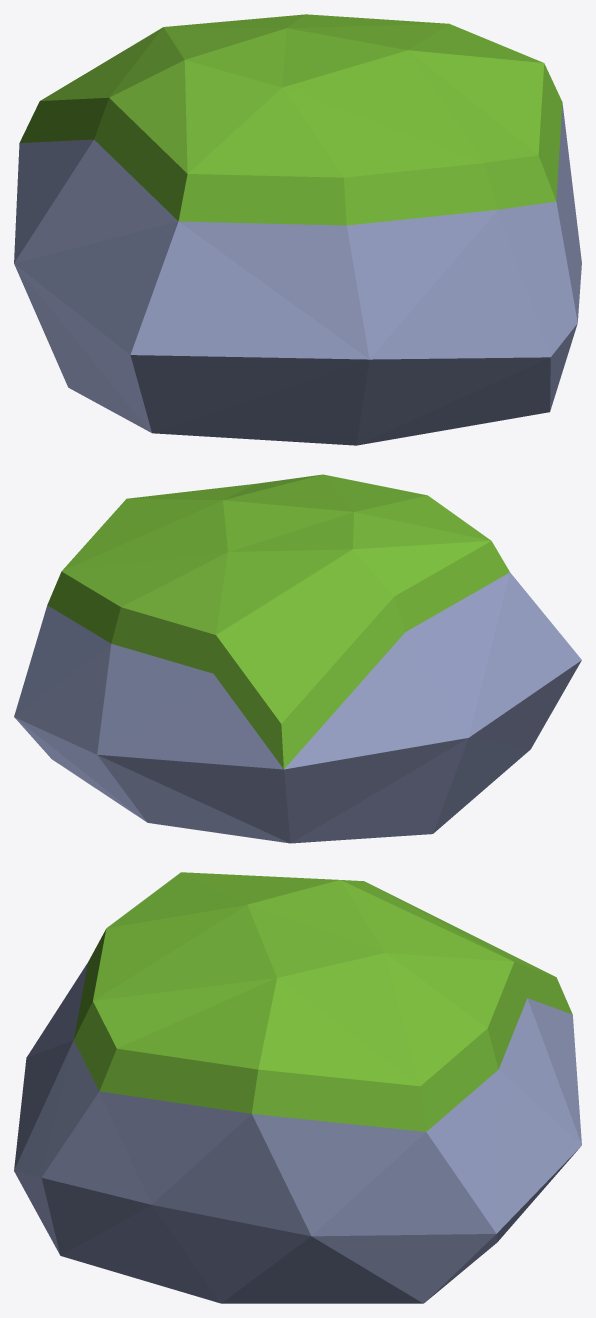
The model's file is Stone_9_1.fbx.
3 renders of one model, top to bottom at view 1: azimuth 30°, elevation 25°; view 2: azimuth 150°, elevation 25°; view 3: azimuth 270°, elevation 25°, orthographic. The views are drawn at different scales.
Parts seen in each view (by area): view 1: Stone_9_1; view 2: Stone_9_1; view 3: Stone_9_1.
Boxes of the visible parts, x1=… form: Stone_9_1: x1=14, y1=14, x2=581, y2=445; Stone_9_1: x1=14, y1=474, x2=581, y2=843; Stone_9_1: x1=14, y1=872, x2=581, y2=1303.
Bounding box in the file's own units: 1.43 × 0.8746 × 1.46.
